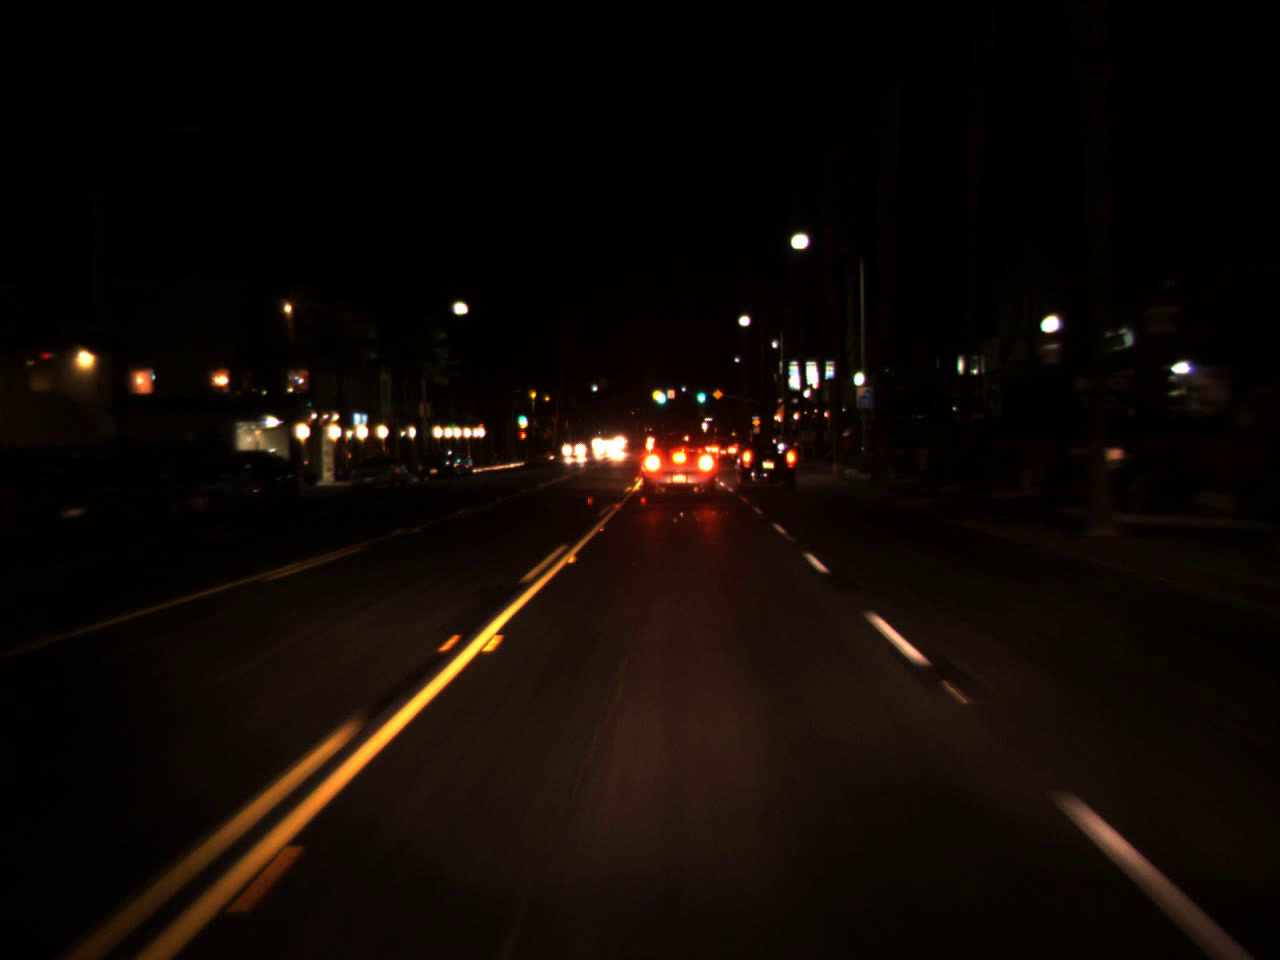go: (651, 382, 667, 406), (694, 388, 706, 400), (517, 410, 527, 422)
